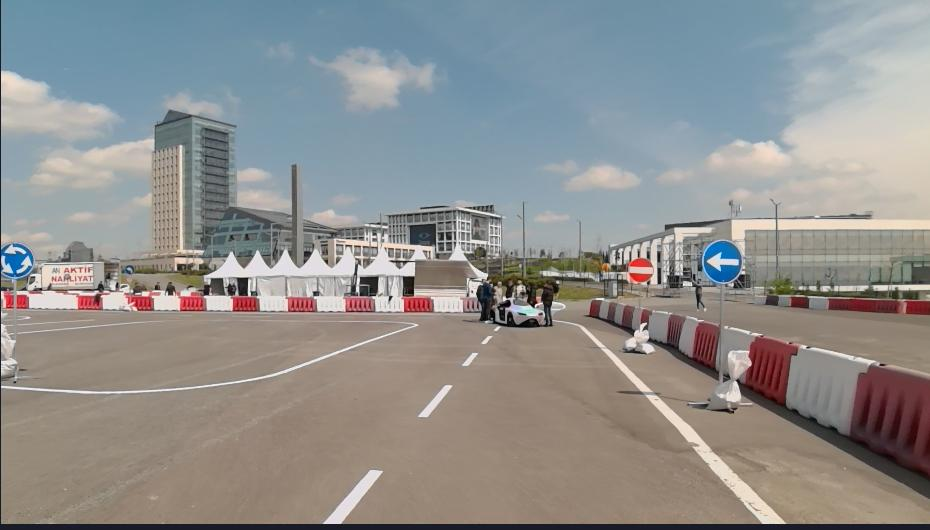nesne: (0, 311, 784, 525), (0, 310, 506, 526), (323, 320, 785, 524), (558, 322, 785, 525), (0, 318, 418, 395), (725, 326, 929, 481), (853, 360, 929, 481), (787, 344, 864, 440), (136, 295, 481, 312), (685, 348, 754, 411), (323, 468, 386, 529), (743, 332, 792, 406), (26, 260, 120, 293), (414, 258, 482, 295), (753, 293, 893, 309), (702, 239, 741, 282), (493, 297, 543, 327), (689, 321, 718, 369), (417, 382, 452, 415), (0, 242, 33, 276), (675, 315, 699, 357), (28, 291, 78, 310), (625, 322, 654, 353), (829, 297, 890, 311), (716, 281, 724, 385), (476, 276, 493, 322), (0, 321, 13, 377), (647, 310, 669, 343), (666, 312, 684, 350), (12, 278, 19, 375), (725, 326, 756, 347), (540, 279, 554, 324), (628, 258, 654, 281), (685, 276, 704, 307), (890, 282, 906, 314), (315, 295, 346, 311), (259, 295, 289, 311), (232, 295, 260, 312), (513, 275, 529, 304), (431, 297, 464, 311), (152, 296, 182, 311), (287, 296, 315, 312), (205, 295, 234, 310), (346, 296, 375, 311), (376, 297, 404, 311), (103, 293, 127, 309), (404, 297, 433, 310), (181, 295, 205, 310), (621, 304, 634, 330), (75, 295, 102, 307), (906, 299, 928, 313), (462, 296, 481, 312), (636, 279, 642, 329), (605, 300, 618, 322), (460, 349, 478, 364), (612, 303, 624, 325), (527, 280, 537, 306), (597, 300, 610, 320), (807, 295, 827, 307), (135, 297, 152, 311), (129, 273, 135, 311), (495, 277, 504, 302), (504, 277, 515, 295), (589, 299, 601, 315), (103, 269, 112, 290), (789, 295, 807, 305), (0, 293, 11, 307), (763, 295, 777, 305), (125, 262, 136, 273), (777, 295, 789, 305), (19, 293, 26, 308), (642, 308, 649, 323), (96, 278, 103, 292), (755, 295, 764, 305)
